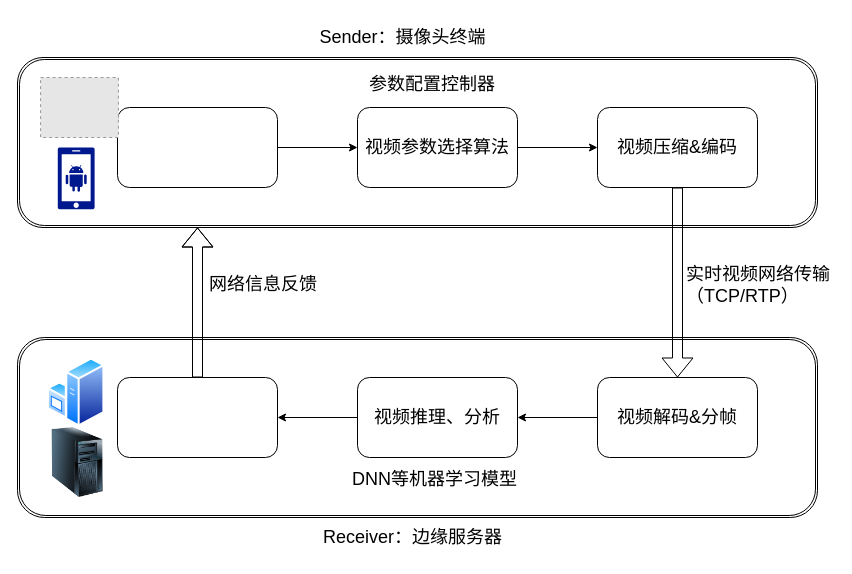
The diagram is 852 pixels wide and 574 high, and some of its shapes have lost their labels. Grey dashed boxes stand in for pictures. The box of each missing label's shape, as (x1, y1, x2, y2) in pixels:
实时视频采集: (116, 106, 278, 188)
视频播放/保存: (116, 376, 278, 458)
